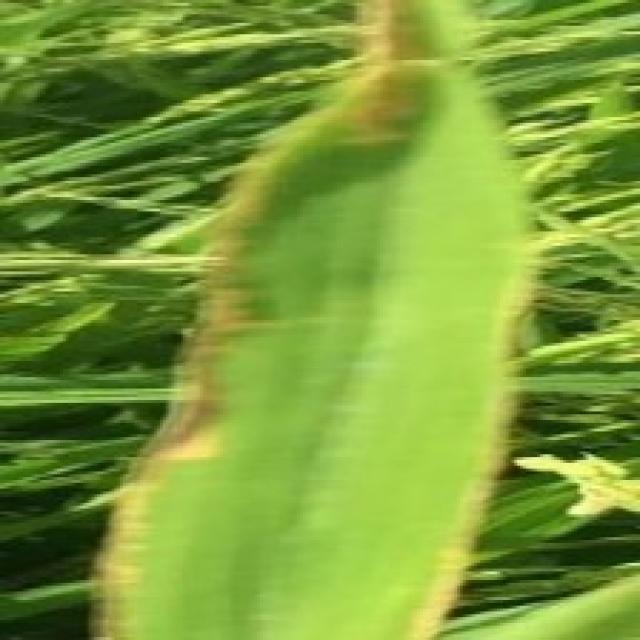Rice___Bacterial_Leaf_Blight: (93, 0, 541, 637)
